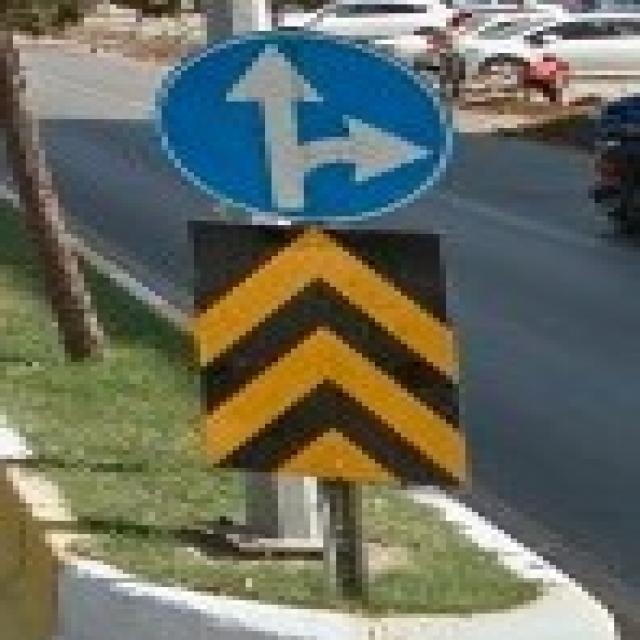Straight or Right: (156, 30, 454, 220)
